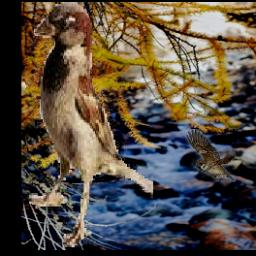Sparrow: (21, 2, 153, 247), (185, 130, 236, 183)
